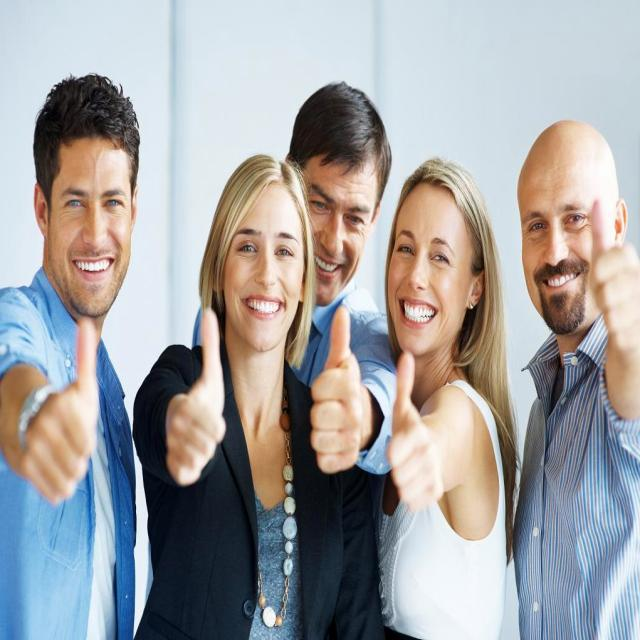adult: (136, 159, 373, 640), (0, 75, 148, 640), (377, 160, 517, 640), (513, 117, 638, 640), (278, 81, 401, 478)
